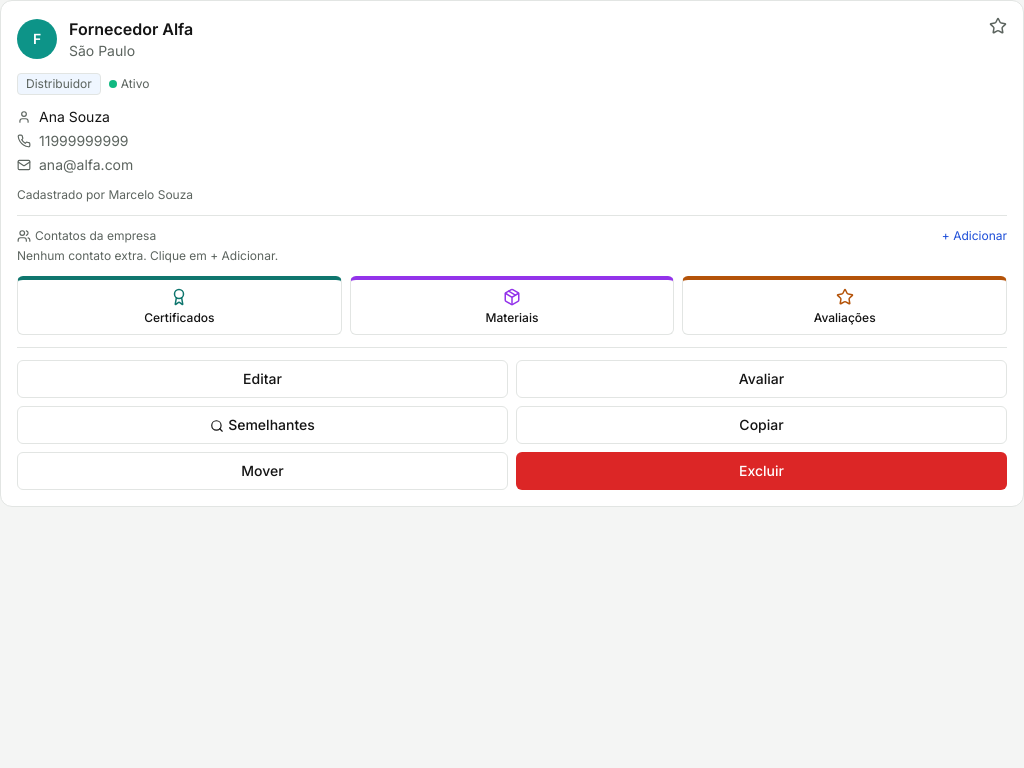
Scenario: SupplierCard › mostra "Em breve" ao clicar em Copiar
The width and height of the screenshot is (1024, 768).
Click the button "Copiar" at (762, 425), box [516, 406, 1007, 444]
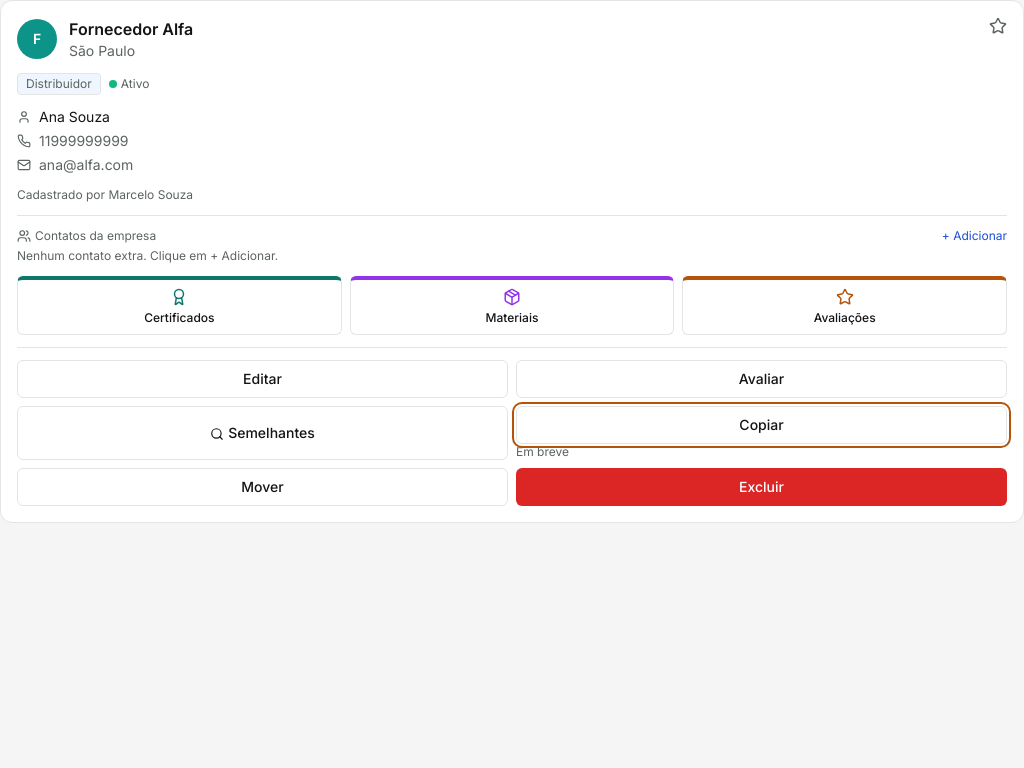
Result: the text "Em breve" is shown at [516, 444, 569, 459]
